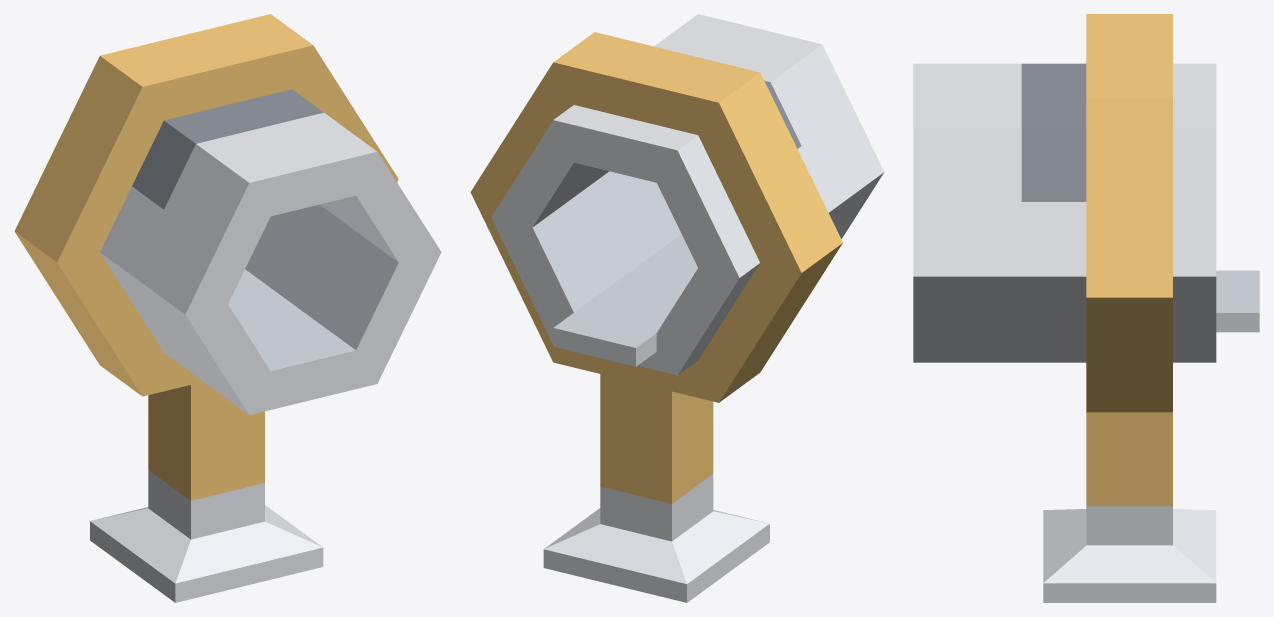
The model's file is pipe_ringHighEnd.glb.
3 renders of one model, left to right at view 1: azimuth 30°, elevation 25°; view 2: azimuth 150°, elevation 25°; view 3: azimuth 270°, elevation 25°, orthographic. The views are drawn at different scales.
Parts seen in each view (by area): view 1: pipe_ringHighEnd; view 2: pipe_ringHighEnd; view 3: pipe_ringHighEnd.
Part boxes in pixels (x1,y1,x2,y2): pipe_ringHighEnd: (14,14,441,602); pipe_ringHighEnd: (470,14,884,602); pipe_ringHighEnd: (913,14,1259,602).
Size of the model in its own units: 1.3 by 1.83 by 1.12.
